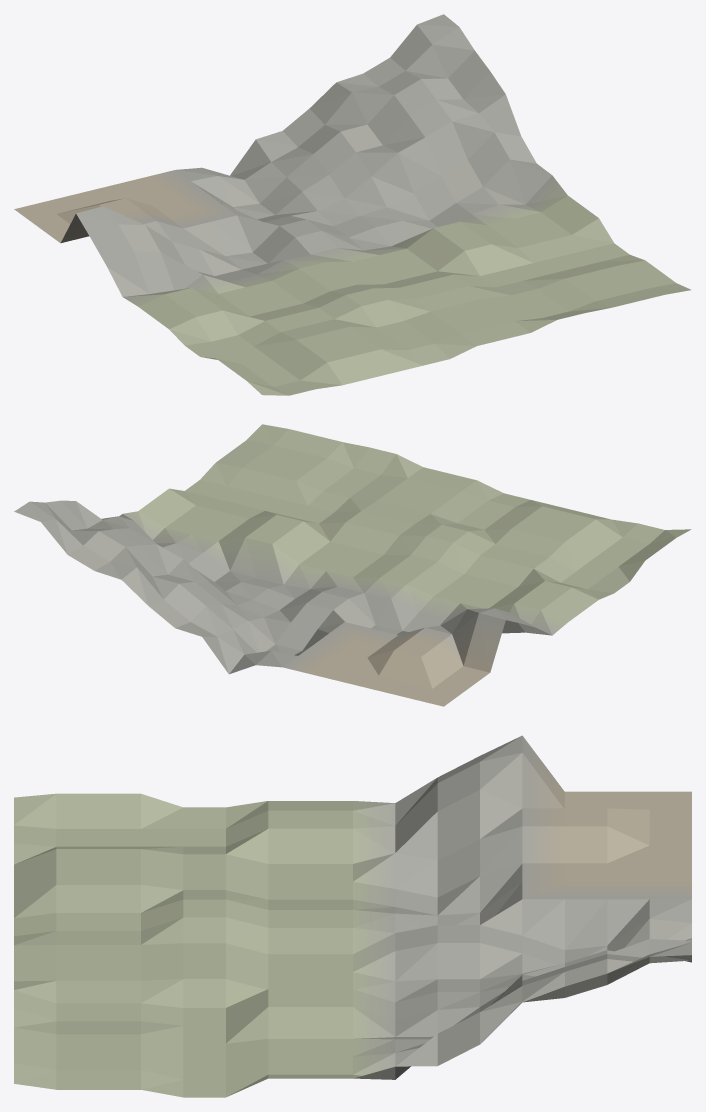
The picture shows the model from 3 angles, top to bottom: view 1: azimuth 30°, elevation 25°; view 2: azimuth 150°, elevation 25°; view 3: azimuth 270°, elevation 25°; orthographic projection. The views are drawn at different scales.
Size of the model in its own units: 32 by 8.25 by 32.
